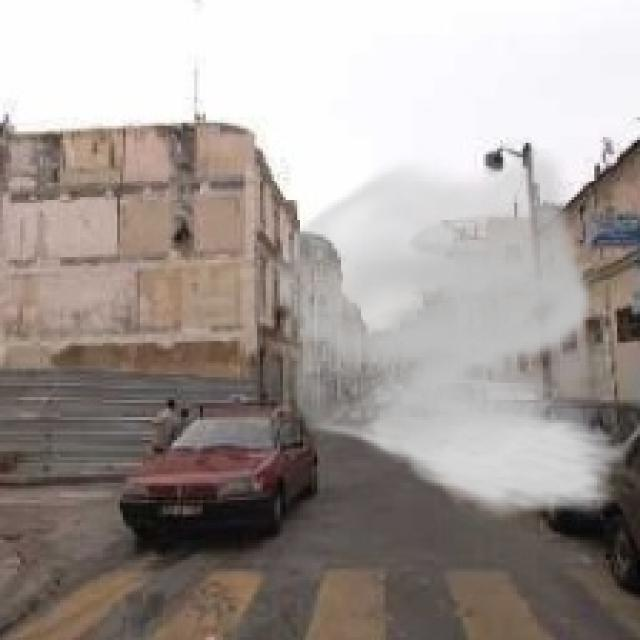smoke: (260, 149, 634, 520)
